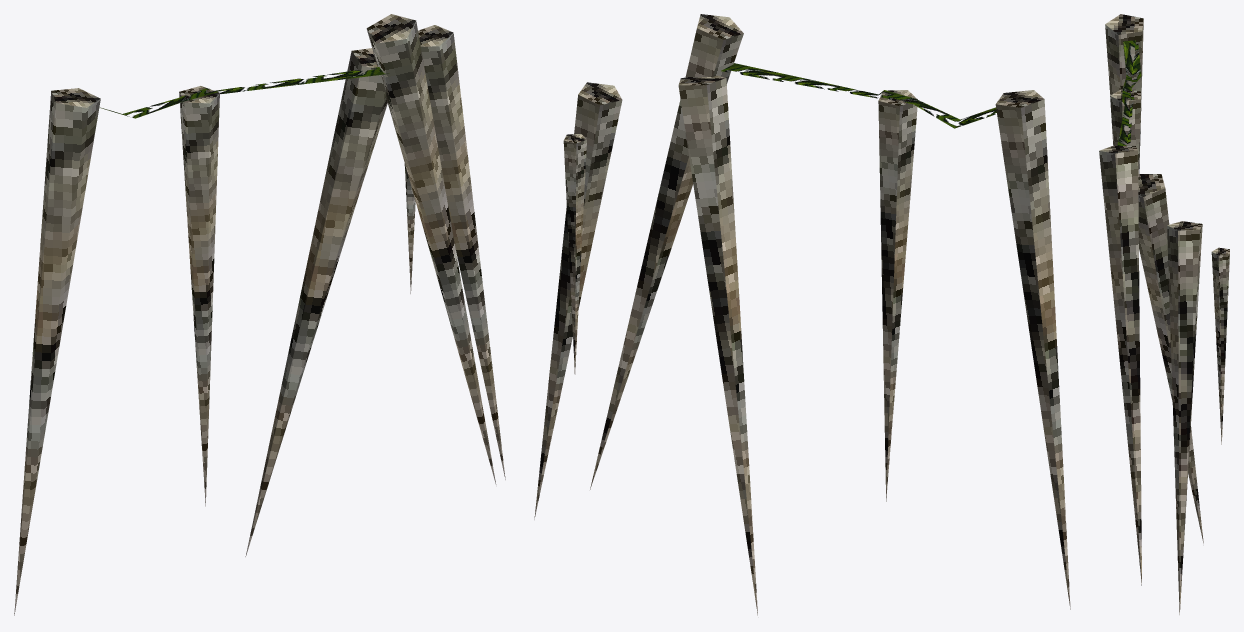
The model's file is beach-_Stalagtites2 (1).fbx.
3 renders of one model, left to right at view 1: azimuth 30°, elevation 25°; view 2: azimuth 150°, elevation 25°; view 3: azimuth 270°, elevation 25°, orthographic. The views are drawn at different scales.
Visible parts, largest first — view 1: stalagtite.012, stalagtite.015, stalagtite.013, stalagtite.016, stalagtite.014, seaweed3, stalagtite.017; view 2: stalagtite.015, stalagtite.012, stalagtite.013, stalagtite.014, stalagtite.016, stalagtite.017, seaweed3; view 3: stalagtite.013, stalagtite.016, stalagtite.015, stalagtite.012, stalagtite.017, stalagtite.014, seaweed3.
Part boxes in pixels (x1=…): stalagtite.012: x1=14, y1=88, x2=100, y2=615; stalagtite.015: x1=245, y1=48, x2=387, y2=556; stalagtite.013: x1=366, y1=14, x2=496, y2=484; stalagtite.016: x1=418, y1=25, x2=505, y2=479; stalagtite.014: x1=179, y1=86, x2=219, y2=506; seaweed3: x1=99, y1=67, x2=389, y2=118; stalagtite.017: x1=404, y1=163, x2=415, y2=293; stalagtite.015: x1=678, y1=75, x2=757, y2=615; stalagtite.012: x1=995, y1=90, x2=1070, y2=609; stalagtite.013: x1=590, y1=14, x2=743, y2=489; stalagtite.014: x1=878, y1=90, x2=917, y2=501; stalagtite.016: x1=534, y1=82, x2=622, y2=519; stalagtite.017: x1=563, y1=134, x2=586, y2=374; seaweed3: x1=721, y1=63, x2=996, y2=128; stalagtite.013: x1=1099, y1=146, x2=1141, y2=585; stalagtite.016: x1=1167, y1=221, x2=1202, y2=614; stalagtite.015: x1=1138, y1=174, x2=1203, y2=543; stalagtite.012: x1=1105, y1=14, x2=1143, y2=173; stalagtite.017: x1=1211, y1=247, x2=1229, y2=444; stalagtite.014: x1=1110, y1=89, x2=1140, y2=173; seaweed3: x1=1117, y1=40, x2=1141, y2=145.
Size of the model in its own units: 2.83 by 0.7765 by 2.87.
Materials: 2 (2 with a texture image).
